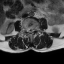CCS_severe_stenosis: (29, 28, 31, 34)
LFS_normal: (33, 27, 35, 32)
LLS_normal: (31, 28, 33, 33)
RFS_normal: (25, 27, 28, 34)
RLS_normal: (27, 28, 29, 34)
